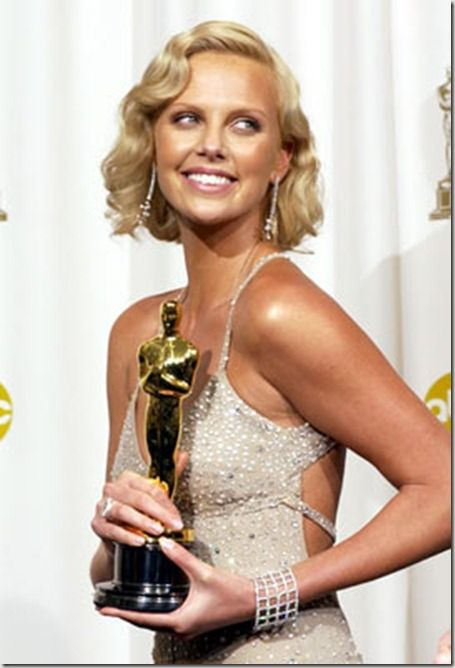hand: (94, 547, 256, 628)
